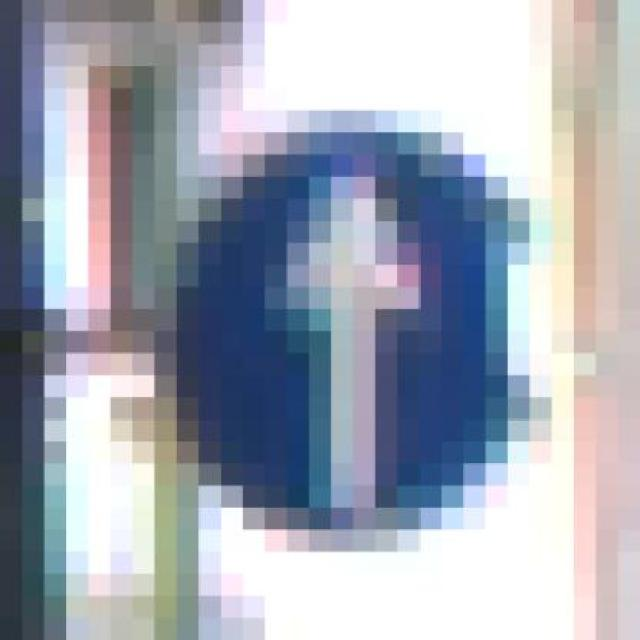Straight Ahead Only: (132, 89, 552, 552)
